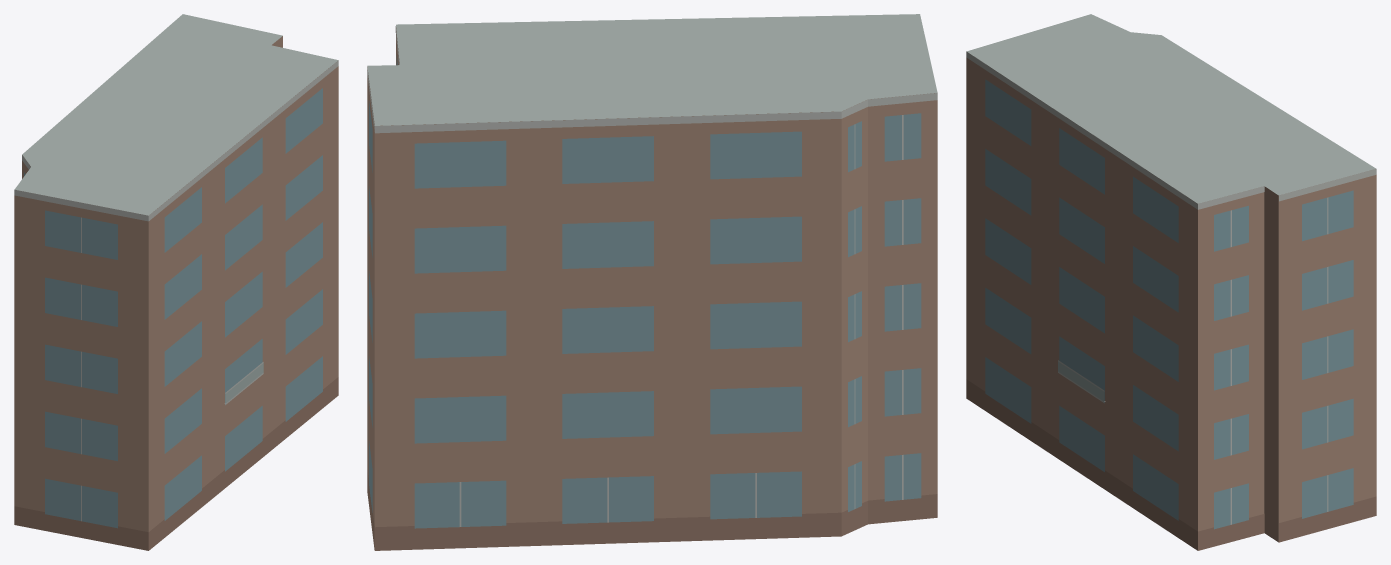
File: survey-upis-32778067.glb
The picture shows the model from 3 angles, left to right: view 1: azimuth 30°, elevation 25°; view 2: azimuth 150°, elevation 25°; view 3: azimuth 270°, elevation 25°; orthographic projection. The views are drawn at different scales.
Visible parts, largest first — view 1: survey-upis-32778067.tmp; view 2: survey-upis-32778067.tmp; view 3: survey-upis-32778067.tmp.
Part boxes in pixels (<box>): survey-upis-32778067.tmp: <box>14,14,338,550</box>; survey-upis-32778067.tmp: <box>367,14,937,550</box>; survey-upis-32778067.tmp: <box>966,14,1376,550</box>.
Size of the model in its own units: 16.55 by 14.1 by 15.11.
